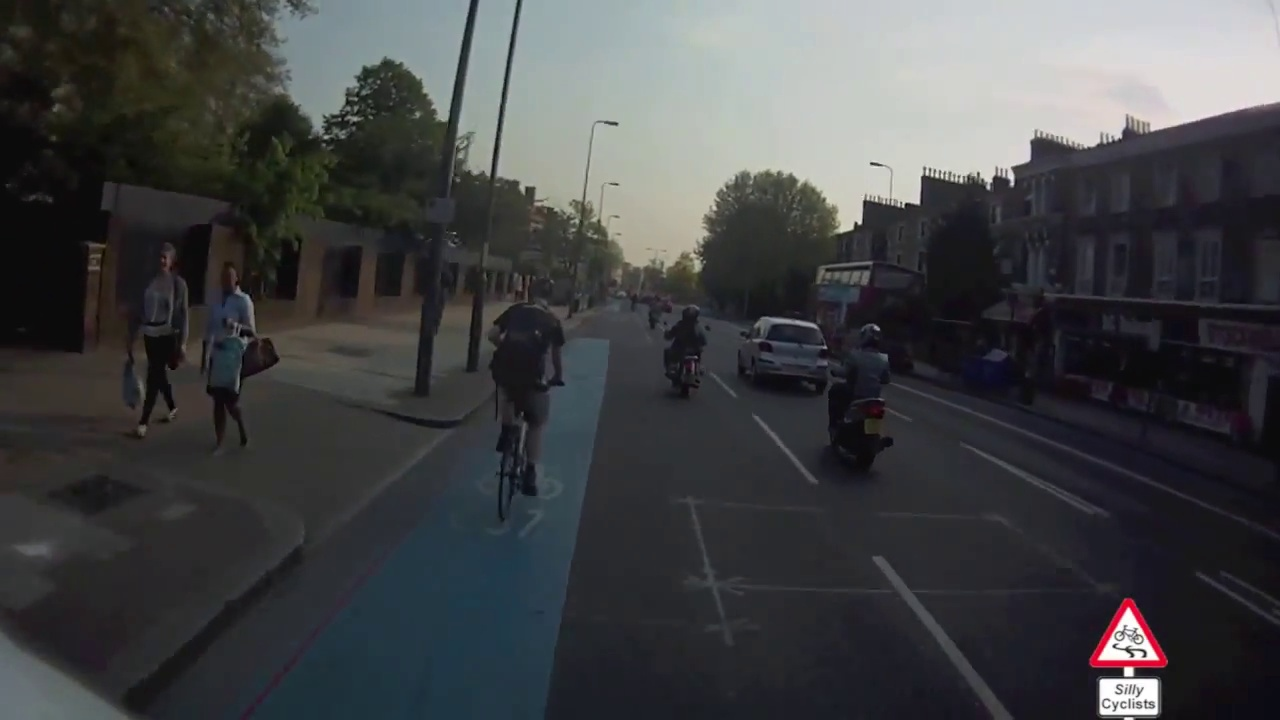cyclist_back: (486, 273, 556, 519), (824, 315, 909, 489), (661, 303, 710, 402)
